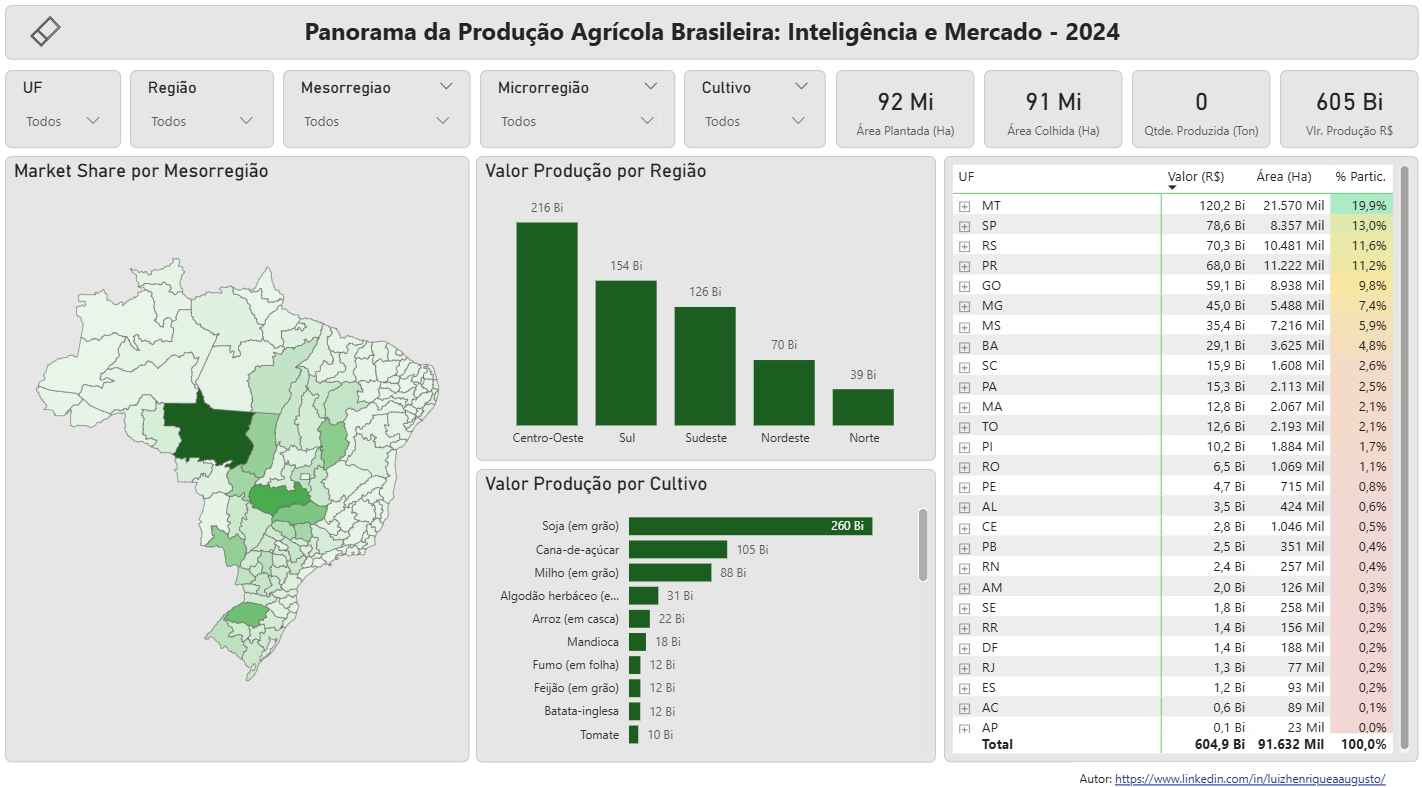

This screenshot's page, from the dashboard's own definition file:
{"tool":"powerbi","page":{"name":"PAM - Todos os Cultivos","canvas":[1280,720],"ordinal":0},"visuals":[{"type":"textbox","box":[5.8,9.7,1266.4,58.4],"z":0},{"type":"card","fields":{"Values":["Medidas.Área Plantada (Ha)"]},"box":[750.1,75.2,124.5,69.9],"z":1000},{"type":"card","fields":{"Values":["Medidas.Área Colhida (Ha)"]},"box":[882.6,75.2,124.5,69.9],"z":2000},{"type":"card","fields":{"Values":["Medidas.Produção Total (Ton)"]},"box":[1015.2,75.2,124.5,69.9],"z":3000},{"type":"card","fields":{"Values":["Medidas.Valor Produção Total"]},"box":[1147.7,74.9,124.5,70],"z":4000},{"type":"shapeMap","title":"Market Share por Mesorregião","fields":{"Value":["Medidas.% Partic. UF no Brasil"],"Category":["d_geografia.id.mesorregiao"]},"box":[5.8,153.7,416.3,560.2],"z":5000},{"type":"pivotTable","fields":{"Rows":["d_geografia.sigla.uf","d_geografia.nome.mesorregiao","d_geografia.nome.microrregiao","d_geografia.nome.municipio"],"Values":["Medidas.Valor Produção Total","Medidas.Área Plantada (Ha)","Medidas.% Partic. UF no Brasil"]},"box":[847.2,153.7,425,560.2],"z":6000},{"type":"slicer","fields":{"Values":["d_geografia.sigla.uf"]},"box":[5.8,74.9,104.1,70],"z":7000},{"type":"slicer","fields":{"Values":["d_geografia.nome.regiao"]},"box":[118,74.9,129.4,70],"z":8000},{"type":"slicer","fields":{"Values":["d_geografia.nome.mesorregiao"]},"box":[255.4,74.9,168.3,70],"z":9000},{"type":"slicer","fields":{"Values":["d_geografia.nome.microrregiao"]},"box":[431.7,74.9,175.1,70],"z":10000},{"type":"slicer","fields":{"Values":["d_cultivo.Cultivo"]},"box":[614.9,75.2,127.2,69.9],"z":11000},{"type":"columnChart","title":"Valor Produção por Região","fields":{"Category":["d_geografia.nome.regiao"],"Y":["Medidas.Valor Produção Total"]},"box":[428,153.7,412.4,273.3],"z":12000},{"type":"clusteredBarChart","title":"Valor Produção por Cultivo","fields":{"Y":["Medidas.Valor Produção Total"],"Category":["d_cultivo.Cultivo"]},"box":[428,433.8,412.4,280.1],"z":13000},{"type":"actionButton","box":[23.3,20.4,41.8,37],"z":14000}]}

Visuals, with their boxes in screenshot pixels (x1, y1, x2, y2), scaled from the page's 1280x720 canvas onto the 1422x787 screenshot:
textbox: l=6, t=11, r=1413, b=74
card - Medidas.Área Plantada (Ha): l=833, t=82, r=972, b=159
card - Medidas.Área Colhida (Ha): l=981, t=82, r=1119, b=159
card - Medidas.Produção Total (Ton): l=1128, t=82, r=1266, b=159
card - Medidas.Valor Produção Total: l=1275, t=82, r=1413, b=158
"Market Share por Mesorregião" shapeMap: l=6, t=168, r=469, b=780
pivotTable - d_geografia.sigla.uf x d_geografia.nome.mesorregiao: l=941, t=168, r=1413, b=780
slicer - d_geografia.sigla.uf: l=6, t=82, r=122, b=158
slicer - d_geografia.nome.regiao: l=131, t=82, r=275, b=158
slicer - d_geografia.nome.mesorregiao: l=284, t=82, r=471, b=158
slicer - d_geografia.nome.microrregiao: l=480, t=82, r=674, b=158
slicer - d_cultivo.Cultivo: l=683, t=82, r=824, b=159
"Valor Produção por Região" columnChart: l=475, t=168, r=934, b=467
"Valor Produção por Cultivo" clusteredBarChart: l=475, t=474, r=934, b=780
actionButton: l=26, t=22, r=72, b=63
